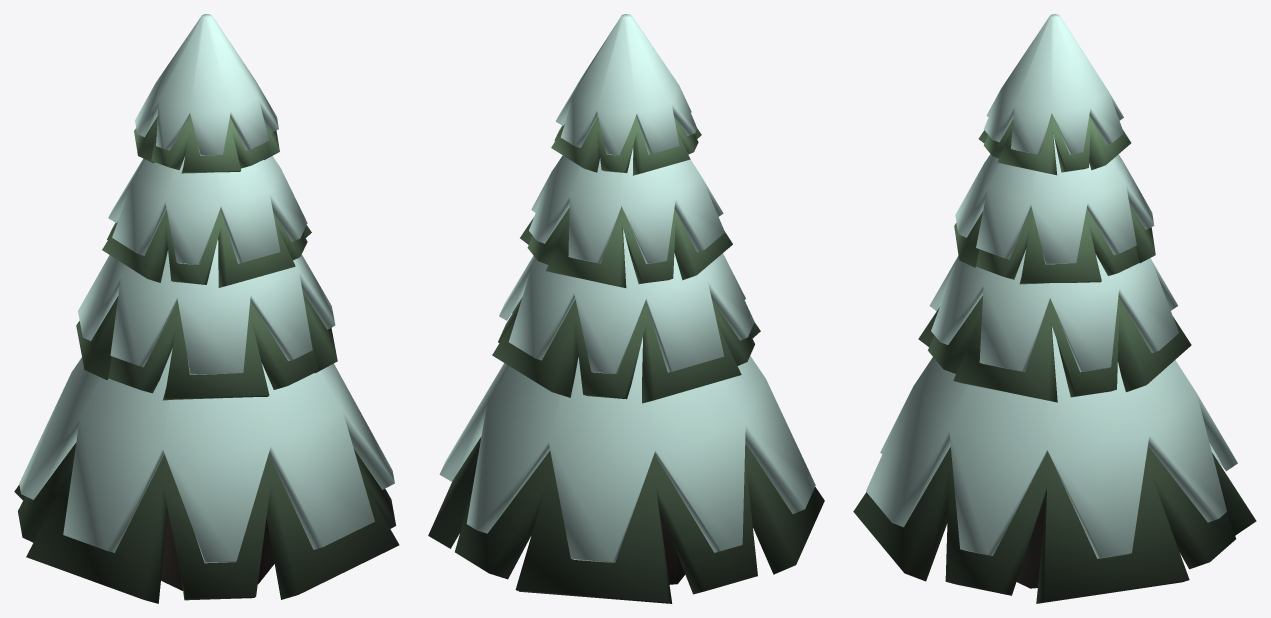
File: tree3.glb
3 views of the same model, side by side, from view 1: azimuth 30°, elevation 25°; view 2: azimuth 150°, elevation 25°; view 3: azimuth 270°, elevation 25° (orthographic).
Parts seen in each view (by area): view 1: Cylinder.018; view 2: Cylinder.018; view 3: Cylinder.018.
Boxes of the visible parts, x1=… form: Cylinder.018: x1=14, y1=14, x2=399, y2=603; Cylinder.018: x1=428, y1=14, x2=824, y2=603; Cylinder.018: x1=853, y1=14, x2=1256, y2=603.
Size of the model in its own units: 4.04 by 5.99 by 4.04.
Materials: 1 (1 with a texture image).
